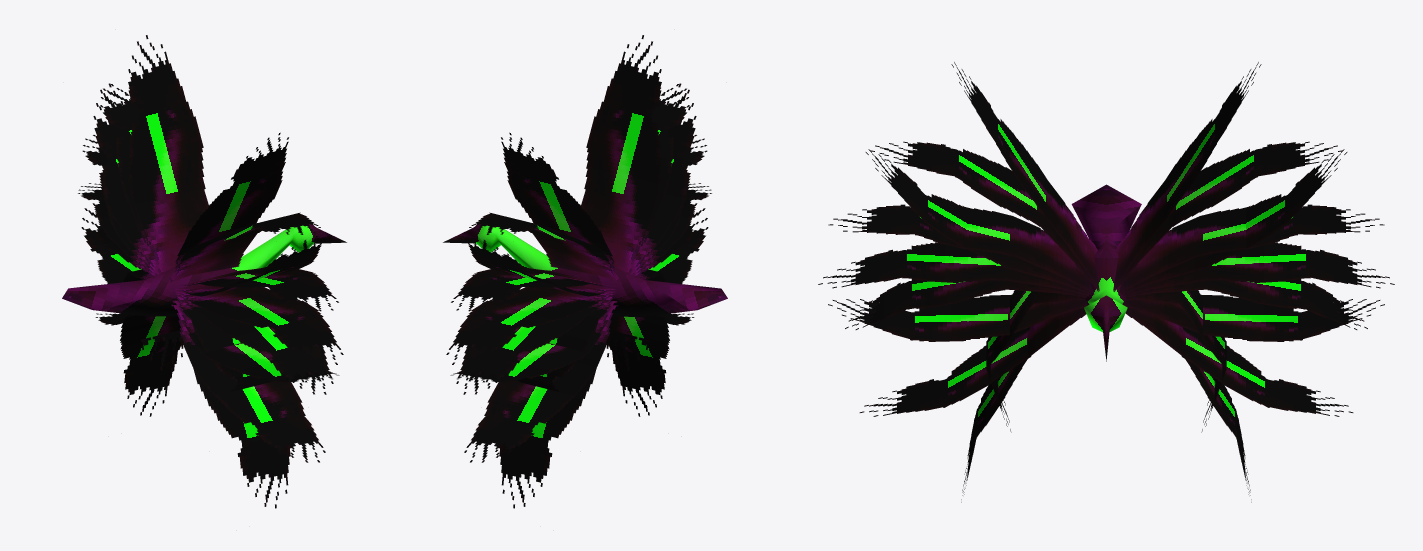
Rendered from Bird_Mesh.FBX.
The picture shows the model from 3 angles, left to right: view 1: azimuth 30°, elevation 25°; view 2: azimuth 150°, elevation 25°; view 3: azimuth 270°, elevation 25°; orthographic projection. The views are drawn at different scales.
Visible parts, largest first — view 1: Bird_Mesh; view 2: Bird_Mesh; view 3: Bird_Mesh.
Part boxes in pixels (bbox=[...]): Bird_Mesh: bbox=[62, 35, 346, 508]; Bird_Mesh: bbox=[443, 35, 727, 508]; Bird_Mesh: bbox=[818, 62, 1394, 502].
Size of the model in its own units: 0.0941 by 0.1256 by 0.1486.
